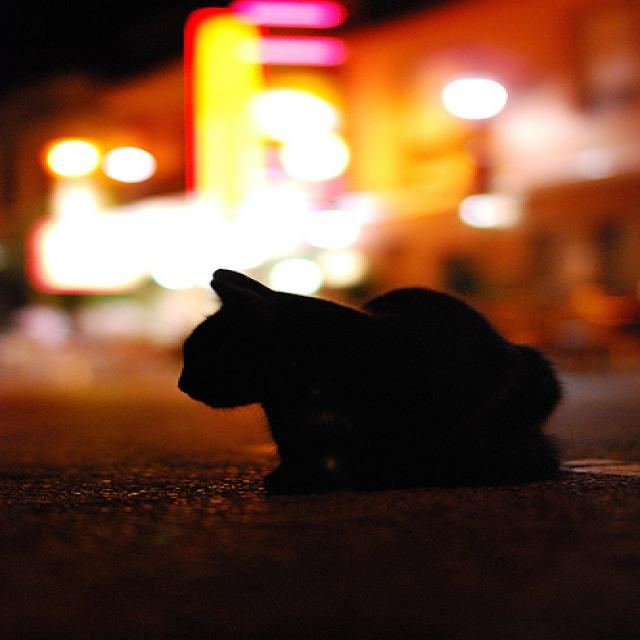Cat: (148, 259, 626, 501)
